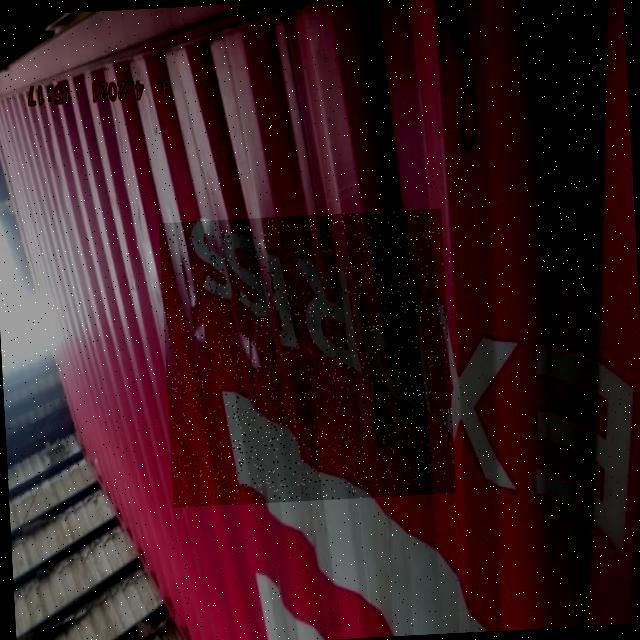Dent: (159, 209, 457, 508)
